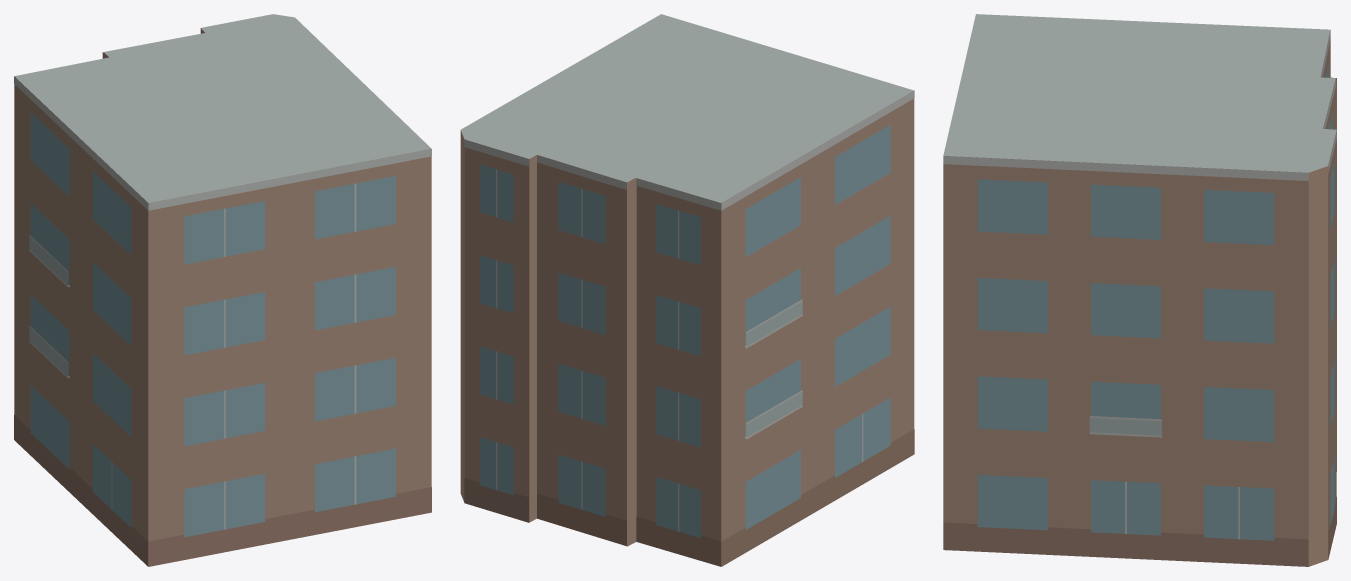
Rendered from survey-upis-32947855.glb.
The picture shows the model from 3 angles, left to right: view 1: azimuth 30°, elevation 25°; view 2: azimuth 150°, elevation 25°; view 3: azimuth 270°, elevation 25°; orthographic projection. The views are drawn at different scales.
Parts seen in each view (by area): view 1: survey-upis-32947855.tmp; view 2: survey-upis-32947855.tmp; view 3: survey-upis-32947855.tmp.
Boxes of the visible parts, x1,y1,x2,y2 form: survey-upis-32947855.tmp: (14,14,431,566); survey-upis-32947855.tmp: (460,14,914,566); survey-upis-32947855.tmp: (943,14,1336,566).
Bounding box in the file's own units: 10.03 × 11.6 × 10.51.
